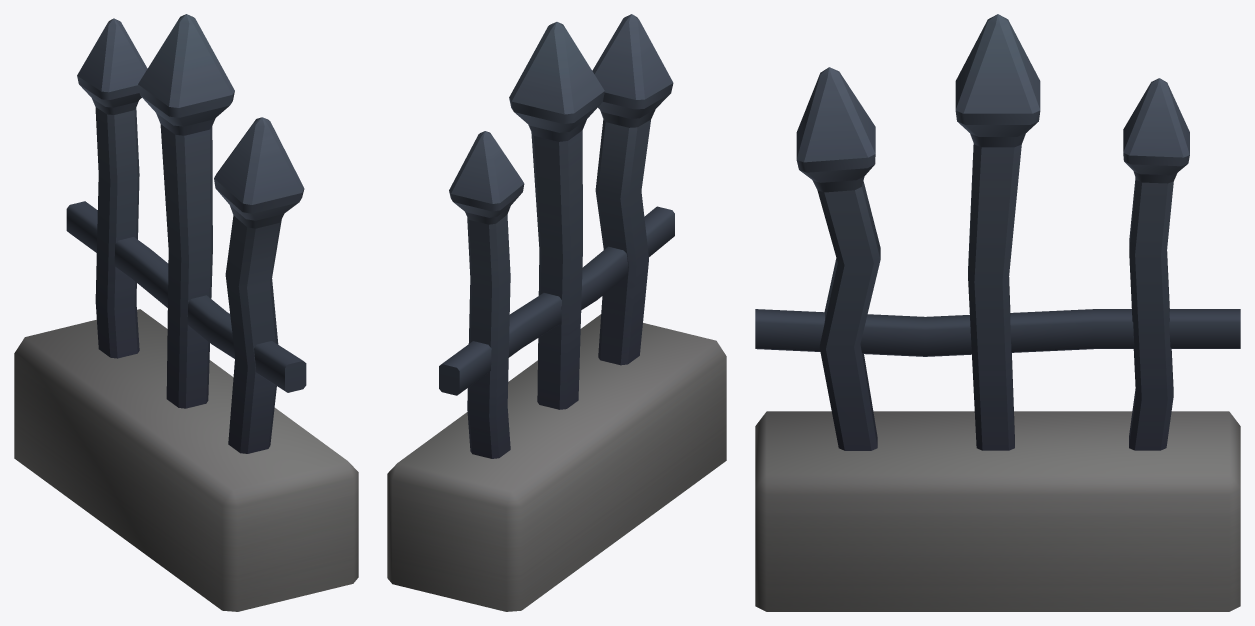
The model's file is Fence_4_1.obj.
3 views of the same model, side by side, from view 1: azimuth 30°, elevation 25°; view 2: azimuth 150°, elevation 25°; view 3: azimuth 270°, elevation 25° (orthographic). The views are drawn at different scales.
Parts seen in each view (by area): view 1: Fence_4_1; view 2: Fence_4_1; view 3: Fence_4_1.
Part boxes in pixels (x1,y1,x2,y2): Fence_4_1: [14, 14, 358, 611]; Fence_4_1: [387, 14, 726, 611]; Fence_4_1: [755, 14, 1240, 611].
Bounding box in the file's own units: 0.3514 × 1.24 × 0.9745.
